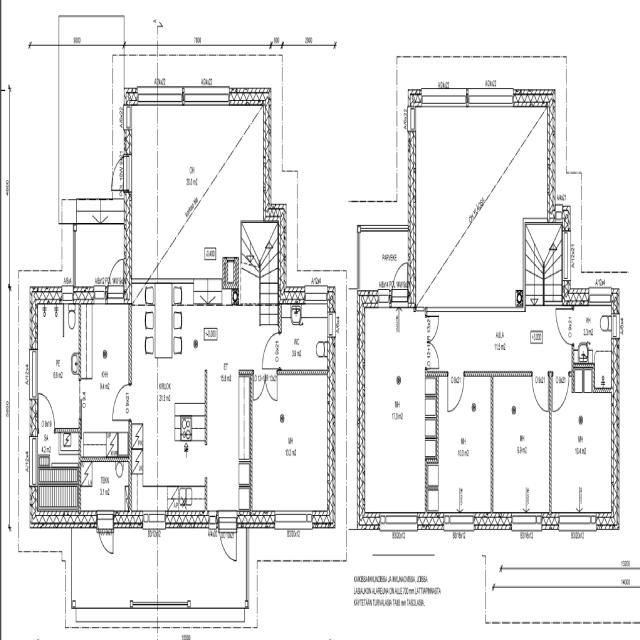door: (217, 511, 239, 565), (110, 377, 133, 425), (254, 364, 278, 404), (446, 369, 466, 415), (106, 253, 125, 300), (260, 328, 281, 370), (530, 370, 550, 413), (551, 369, 570, 414), (553, 305, 574, 345), (96, 512, 115, 556), (37, 391, 57, 430), (390, 258, 410, 296), (426, 319, 440, 372), (109, 152, 127, 191), (425, 306, 441, 346)
window: (181, 83, 231, 111), (466, 84, 514, 112), (377, 508, 419, 538), (421, 84, 467, 110), (272, 506, 313, 533), (556, 509, 596, 536), (511, 510, 544, 536), (442, 512, 476, 536), (156, 81, 184, 106), (136, 79, 160, 105), (28, 342, 39, 398), (32, 433, 39, 481), (94, 282, 108, 306), (60, 284, 76, 304)
zone: (412, 100, 547, 312), (132, 280, 250, 513), (132, 96, 264, 281), (361, 303, 435, 522), (57, 35, 124, 218), (249, 372, 331, 517), (549, 379, 615, 520), (490, 371, 550, 519), (79, 294, 132, 457), (434, 375, 493, 519), (35, 299, 81, 430), (278, 296, 330, 372), (38, 427, 80, 510), (570, 298, 613, 378), (80, 455, 132, 519)
